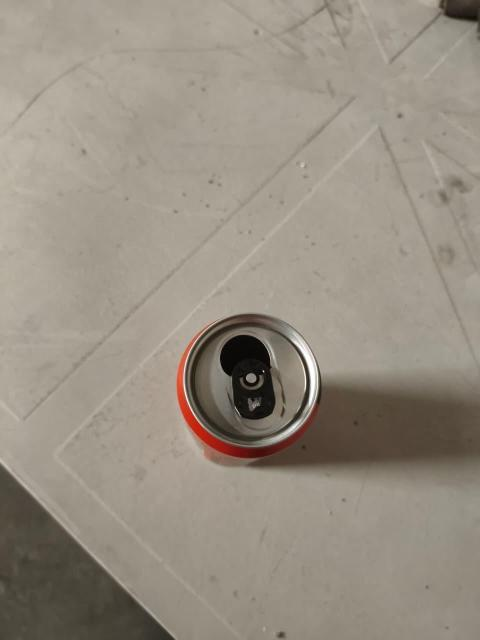Metal: (175, 312, 322, 460)
